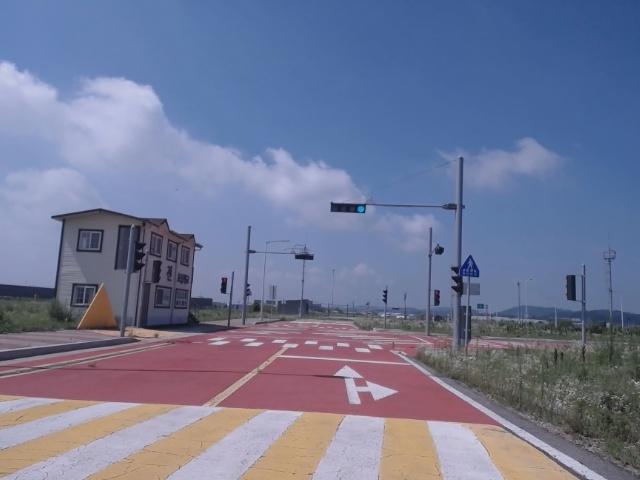straight_green_4: (331, 204, 366, 213)
